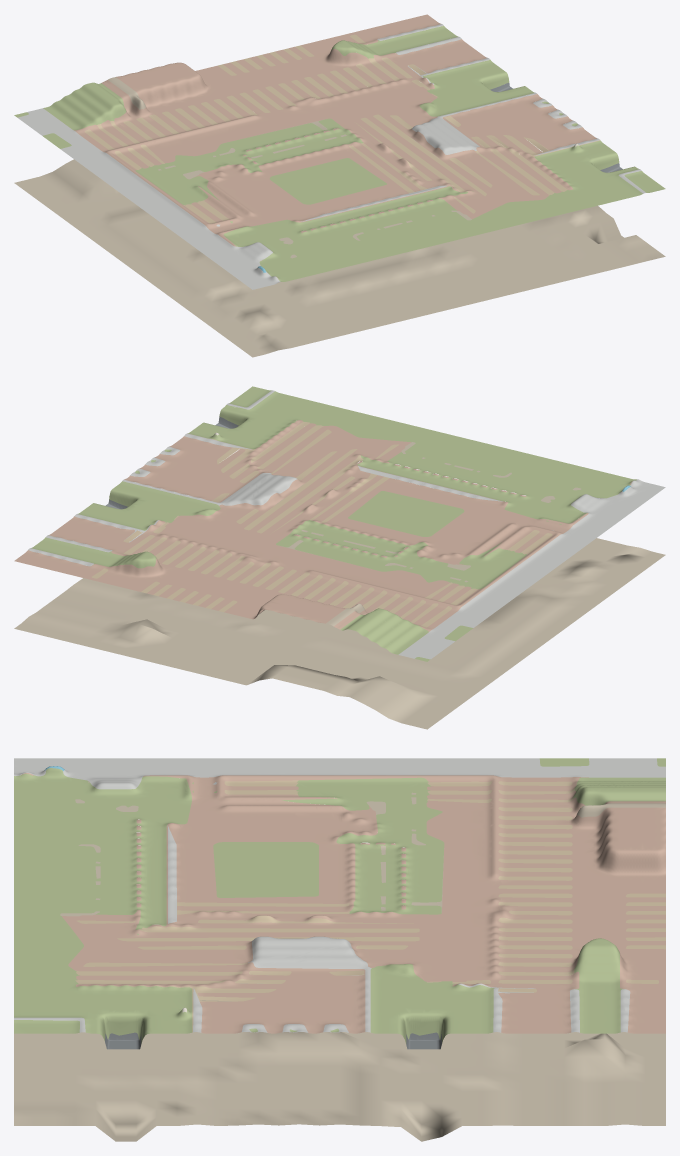
The picture shows the model from 3 angles, top to bottom: view 1: azimuth 30°, elevation 25°; view 2: azimuth 150°, elevation 25°; view 3: azimuth 270°, elevation 25°; orthographic projection. The views are drawn at different scales.
Parts seen in each view (by area): view 1: s_-5_-2__brick_paving, s_-5_-2__soil, s_-5_-2__grass, s_-5_-2__stone_paving, s_-5_-2__timber_deck; view 2: s_-5_-2__brick_paving, s_-5_-2__soil, s_-5_-2__grass, s_-5_-2__stone_paving, s_-5_-2__timber_deck; view 3: s_-5_-2__brick_paving, s_-5_-2__grass, s_-5_-2__soil, s_-5_-2__timber_deck, s_-5_-2__stone_paving, s_-5_-2__asphalt.
Part boxes in pixels (left/top/right/bottom): s_-5_-2__brick_paving: left=74, top=14, right=596, bottom=277; s_-5_-2__soil: left=14, top=77, right=665, bottom=357; s_-5_-2__grass: left=14, top=25, right=665, bottom=281; s_-5_-2__stone_paving: left=18, top=24, right=645, bottom=289; s_-5_-2__timber_deck: left=84, top=34, right=600, bottom=223; s_-5_-2__brick_paving: left=14, top=420, right=632, bottom=632; s_-5_-2__soil: left=14, top=442, right=665, bottom=729; s_-5_-2__grass: left=31, top=386, right=636, bottom=661; s_-5_-2__stone_paving: left=28, top=390, right=665, bottom=659; s_-5_-2__timber_deck: left=92, top=422, right=552, bottom=627; s_-5_-2__brick_paving: left=21, top=773, right=665, bottom=1033; s_-5_-2__grass: left=14, top=758, right=665, bottom=1043; s_-5_-2__soil: left=14, top=781, right=665, bottom=1141; s_-5_-2__timber_deck: left=75, top=780, right=665, bottom=1032; s_-5_-2__stone_paving: left=14, top=758, right=665, bottom=1032; s_-5_-2__asphalt: left=105, top=1032, right=441, bottom=1049.
Size of the model in its own units: 128 by 28.21 by 128.
